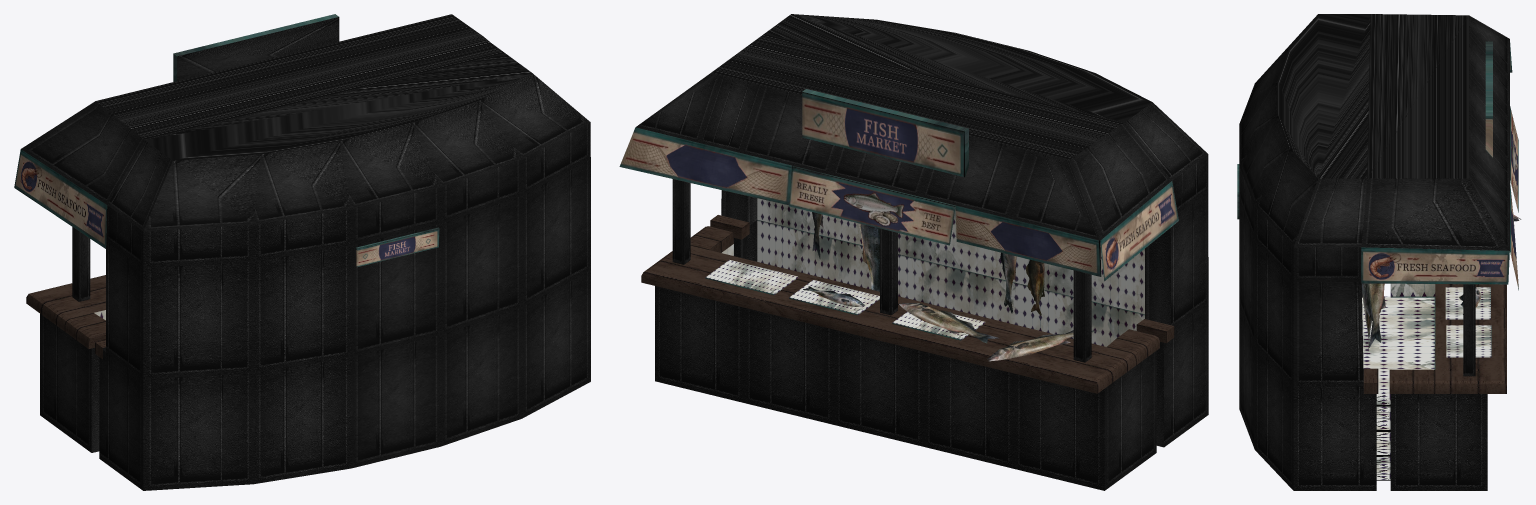
Rendered from fish_shop.fbx.
3 renders of one model, left to right at view 1: azimuth 30°, elevation 25°; view 2: azimuth 150°, elevation 25°; view 3: azimuth 270°, elevation 25°, orthographic. The views are drawn at different scales.
Visible parts, largest first — view 1: kiosk.003; view 2: kiosk.003; view 3: kiosk.003.
Boxes of the visible parts, box(x1,y1,x2,y2) form: kiosk.003: box(14, 14, 590, 490); kiosk.003: box(619, 14, 1208, 490); kiosk.003: box(1237, 14, 1521, 490).
Bounding box in the file's own units: 293 × 161 × 191.
